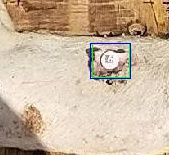text: (92, 43, 129, 77)
